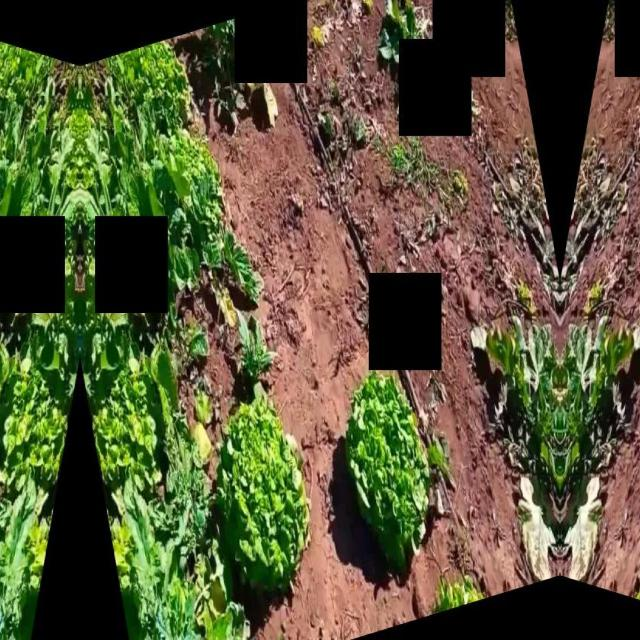healthy: (340, 366, 446, 582), (215, 394, 315, 596), (80, 351, 174, 494), (0, 350, 80, 493), (108, 40, 192, 138), (0, 40, 52, 138), (150, 130, 220, 192), (0, 130, 10, 191)
